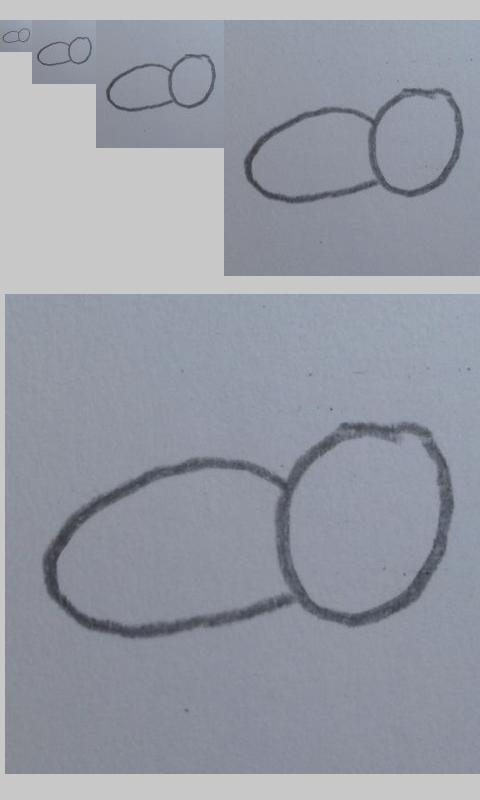switch: (42, 420, 456, 640), (243, 86, 466, 204), (105, 53, 217, 112), (37, 36, 93, 67), (2, 28, 31, 43)
